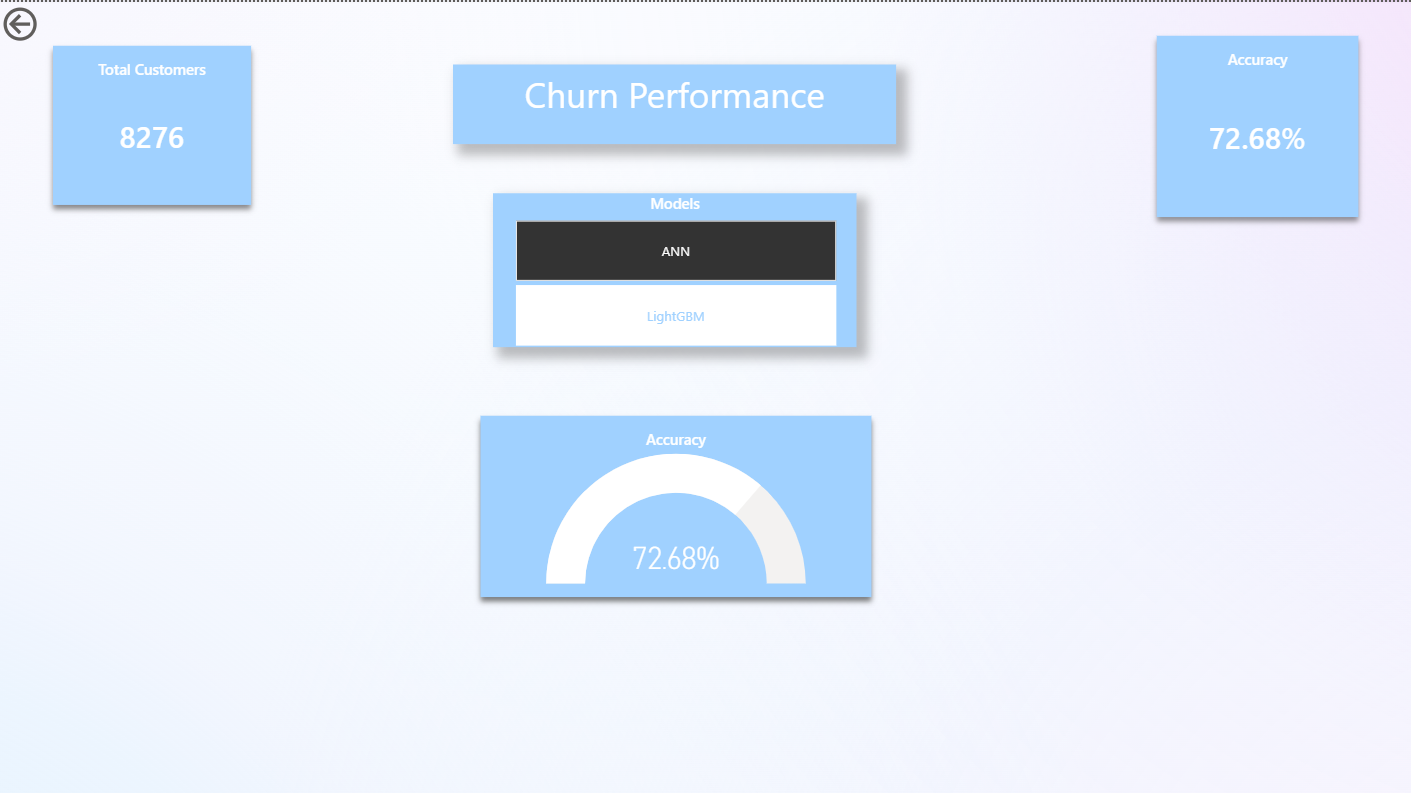

This screenshot's page, from the dashboard's own definition file:
{"tool":"powerbi","page":{"name":"Churn Prediction","canvas":[1280,720],"ordinal":1},"visuals":[{"type":"textbox","box":[411.6,57,401.2,72.1],"z":0},{"type":"card","title":" Total Customers","fields":{"Values":["CountNonNull(training_data.Customer Index)"]},"box":[50,39.5,179.1,144.2],"z":1000},{"type":"slicer","title":"Models","fields":{"Values":["Accuracy Table.Model Name"]},"box":[447.7,173.3,329.1,139.5],"z":2000},{"type":"card","title":"Accuracy ","fields":{"Values":["Sum(Accuracy Table.Value)"]},"box":[1047.7,30.2,182.6,164],"z":3000},{"type":"actionButton","box":[0,0,100,40],"z":4000},{"type":"gauge","title":"Accuracy","fields":{"Y":["Sum(Accuracy Table.Value)"]},"box":[436,374.4,353.5,164],"z":5000}]}

Visuals, with their boxes in screenshot pixels (x1, y1, x2, y2), scaled from the page's 1280x720 canvas onto the 1411x793 screenshot:
textbox: <bbox>454, 63, 896, 142</bbox>
" Total Customers" card: <bbox>55, 44, 253, 202</bbox>
"Models" slicer: <bbox>494, 191, 856, 345</bbox>
"Accuracy " card: <bbox>1155, 33, 1356, 214</bbox>
actionButton: <bbox>0, 0, 110, 44</bbox>
"Accuracy" gauge: <bbox>481, 412, 870, 593</bbox>
